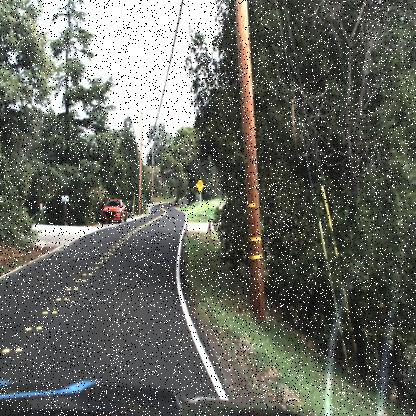car: (100, 196, 130, 227)
